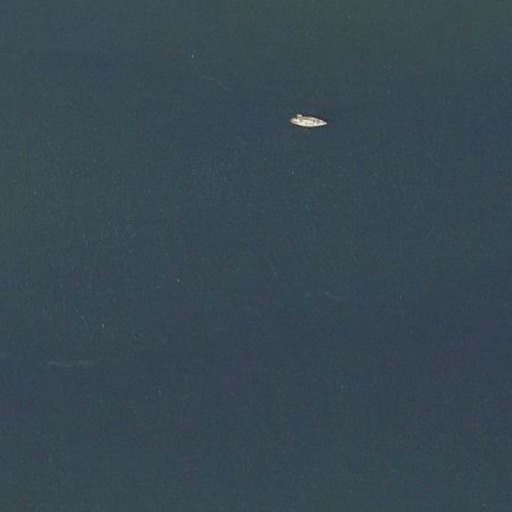ship: (286, 111, 330, 132)
